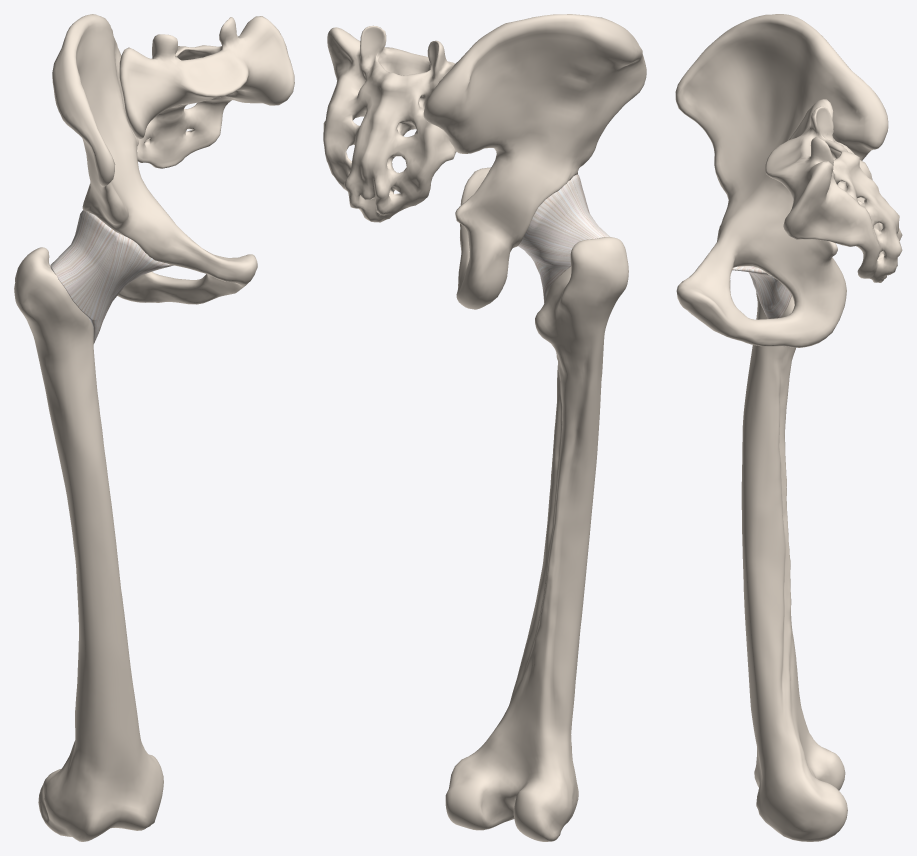
The model's file is hip-CE_wu7KF.glb.
The picture shows the model from 3 angles, left to right: view 1: azimuth 30°, elevation 25°; view 2: azimuth 150°, elevation 25°; view 3: azimuth 270°, elevation 25°; orthographic projection. The views are drawn at different scales.
Visible parts, largest first — view 1: Femur, Pelvis, Sacrum, Capsule; view 2: Femur, Pelvis, Sacrum, Capsule; view 3: Pelvis, Femur, Sacrum, Capsule.
Part boxes in pixels (x1=…): Femur: x1=14, y1=247, x2=163, y2=841; Pelvis: x1=52, y1=14, x2=257, y2=304; Sacrum: x1=119, y1=16, x2=294, y2=168; Capsule: x1=50, y1=210, x2=173, y2=343; Femur: x1=445, y1=237, x2=628, y2=841; Pelvis: x1=423, y1=14, x2=646, y2=309; Sacrum: x1=323, y1=25, x2=456, y2=222; Capsule: x1=518, y1=174, x2=609, y2=302; Pelvis: x1=675, y1=14, x2=888, y2=347; Femur: x1=741, y1=291, x2=847, y2=841; Sacrum: x1=765, y1=99, x2=902, y2=282; Capsule: x1=732, y1=266, x2=791, y2=318.
Size of the model in its own units: 0.21 by 0.5789 by 0.151.
Materials: 6 (1 with a texture image).
